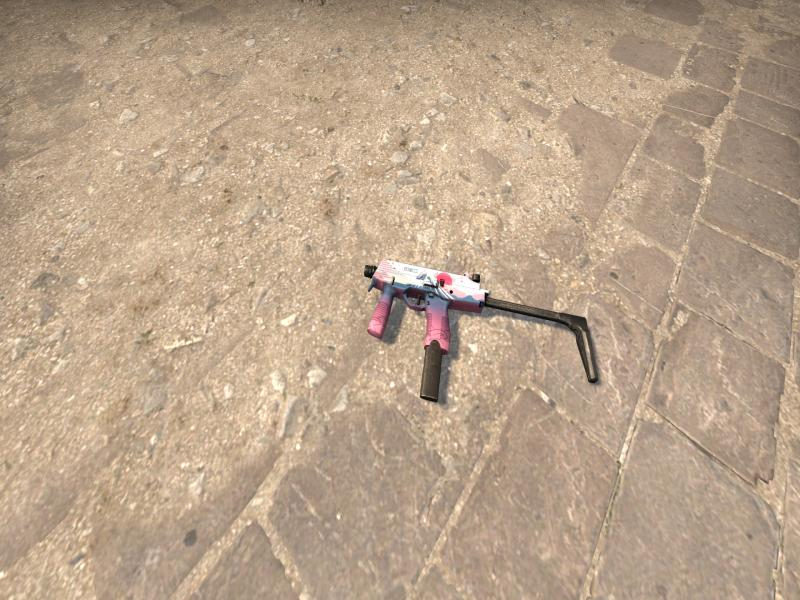MP9: (365, 259, 599, 402)
